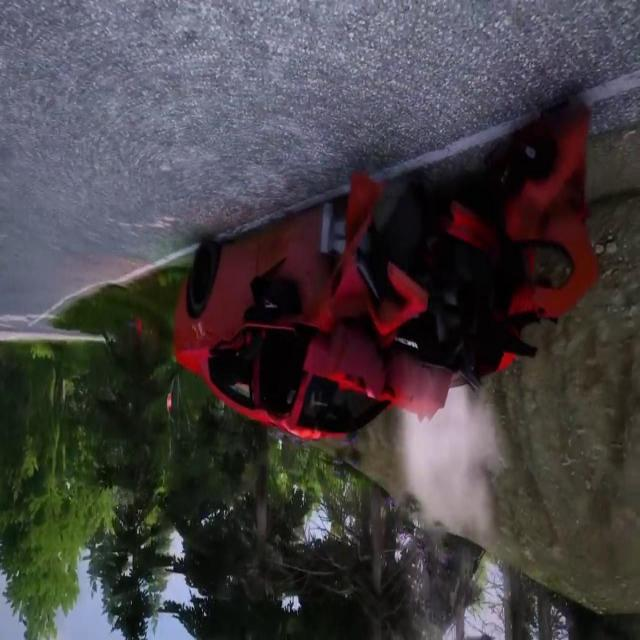severe: (168, 88, 606, 446)
